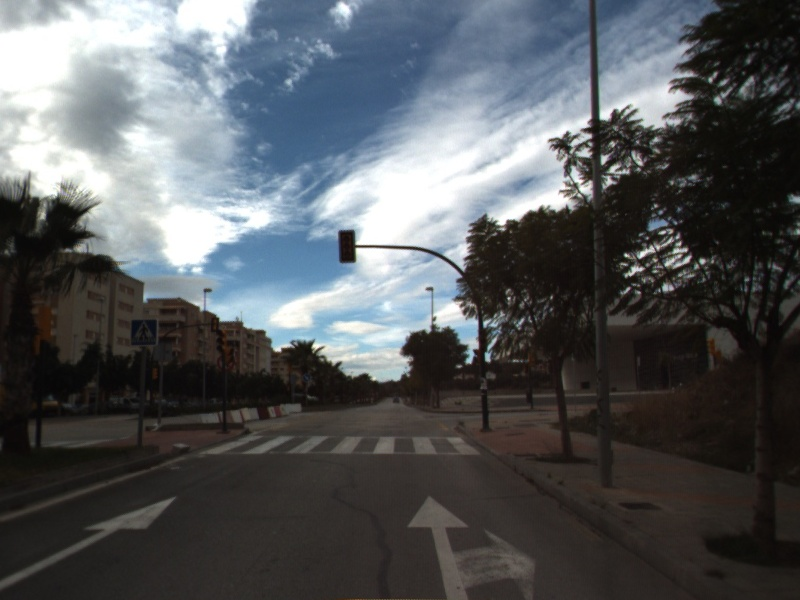STRAIGHT: (1, 494, 179, 592)
STRAIGHT_RIGHT: (405, 493, 538, 600)
